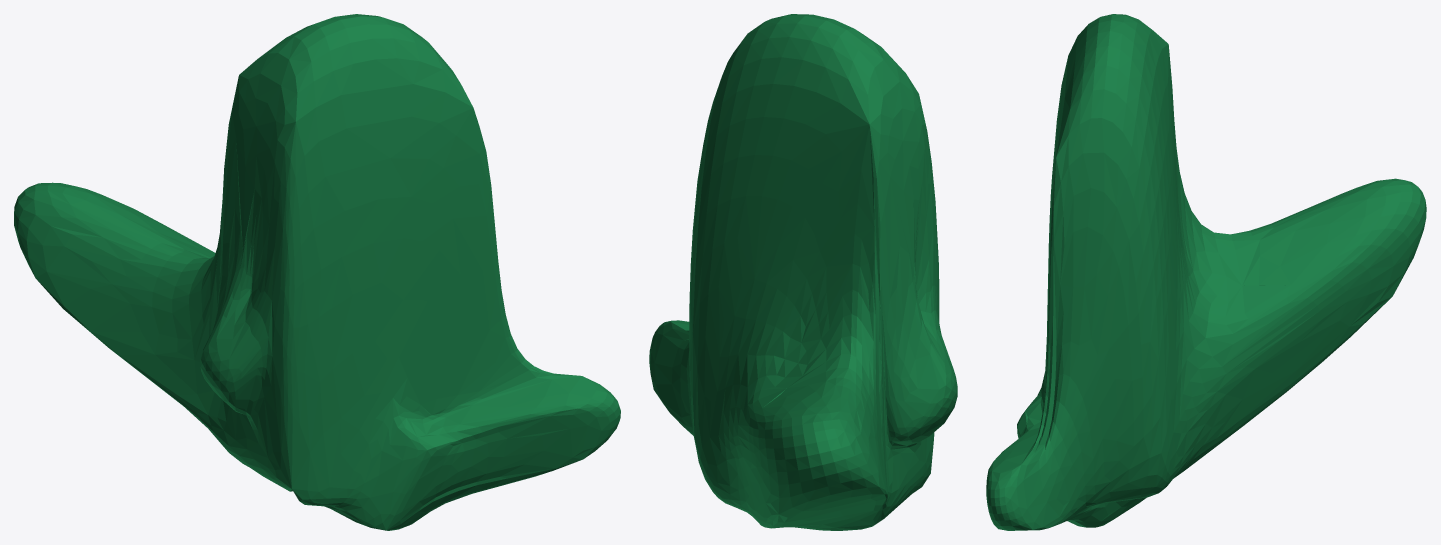
3 renders of one model, left to right at view 1: azimuth 30°, elevation 25°; view 2: azimuth 150°, elevation 25°; view 3: azimuth 270°, elevation 25°, orthographic. The views are drawn at different scales.
Parts seen in each view (by area): view 1: 637_Cube.2563; view 2: 637_Cube.2563; view 3: 637_Cube.2563.
Boxes of the visible parts, box(x1,y1,x2,y2) form: 637_Cube.2563: box(14, 14, 620, 530); 637_Cube.2563: box(649, 14, 957, 530); 637_Cube.2563: box(986, 14, 1426, 530).
Bounding box in the file's own units: 10.3 × 12.26 × 10.25.
